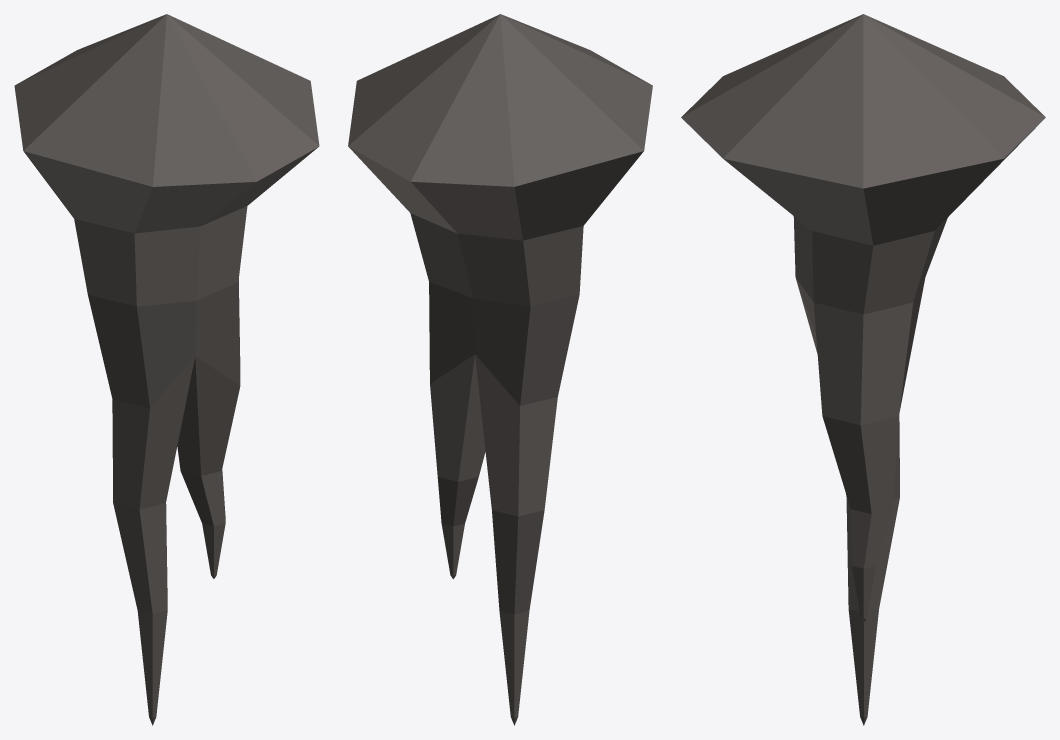
File: SM_Env_Stalactite_02.fbx
3 views of the same model, side by side, from view 1: azimuth 30°, elevation 25°; view 2: azimuth 150°, elevation 25°; view 3: azimuth 270°, elevation 25° (orthographic).
Parts seen in each view (by area): view 1: SM_Env_Stalactite_02; view 2: SM_Env_Stalactite_02; view 3: SM_Env_Stalactite_02.
Boxes of the visible parts, x1,y1,x2,y2 form: SM_Env_Stalactite_02: (14,14,319,725); SM_Env_Stalactite_02: (348,14,652,725); SM_Env_Stalactite_02: (681,14,1045,725).
Bounding box in the file's own units: 0.4708 × 1.11 × 0.5103.
